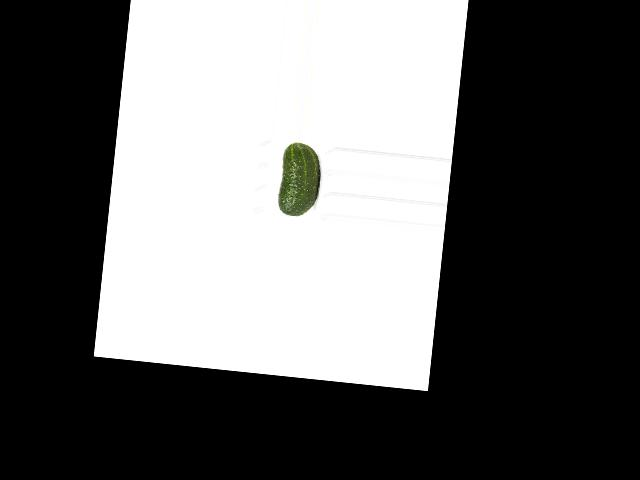cucumber: (277, 141, 323, 218)
